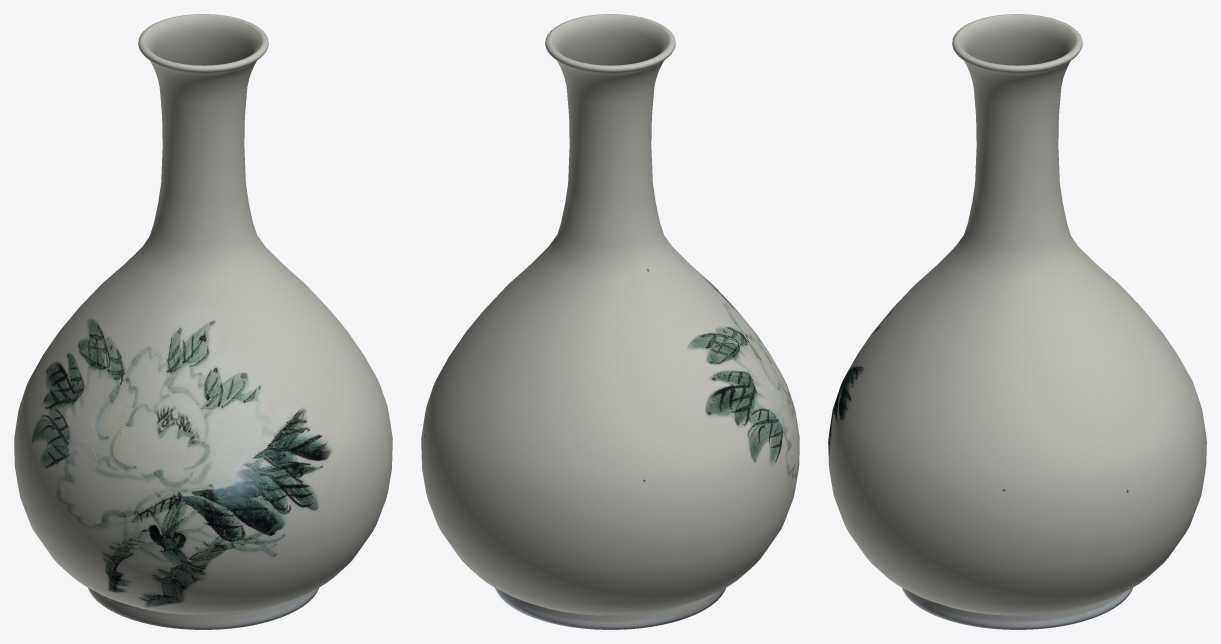
The model's file is unhyun_bottle.glb.
3 renders of one model, left to right at view 1: azimuth 30°, elevation 25°; view 2: azimuth 150°, elevation 25°; view 3: azimuth 270°, elevation 25°, orthographic.
Parts seen in each view (by area): view 1: SM_WhitePorcelainBottle_M_WhitePorcelainBottle_0; view 2: SM_WhitePorcelainBottle_M_WhitePorcelainBottle_0; view 3: SM_WhitePorcelainBottle_M_WhitePorcelainBottle_0.
Boxes of the visible parts, bbox=[...] form: SM_WhitePorcelainBottle_M_WhitePorcelainBottle_0: bbox=[14, 14, 392, 629]; SM_WhitePorcelainBottle_M_WhitePorcelainBottle_0: bbox=[421, 14, 799, 629]; SM_WhitePorcelainBottle_M_WhitePorcelainBottle_0: bbox=[828, 14, 1206, 629].
Bounding box in the file's own units: 0.1477 × 0.2326 × 0.1477.
1 material, 1 textured.
